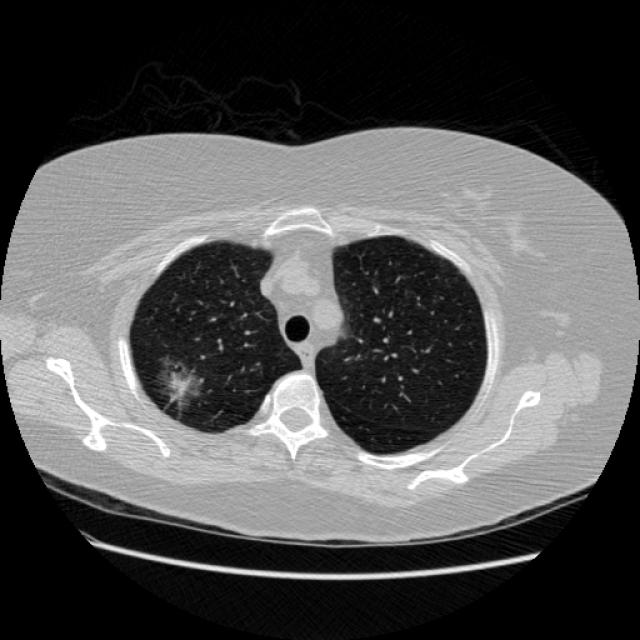nodule: (136, 343, 219, 425)
